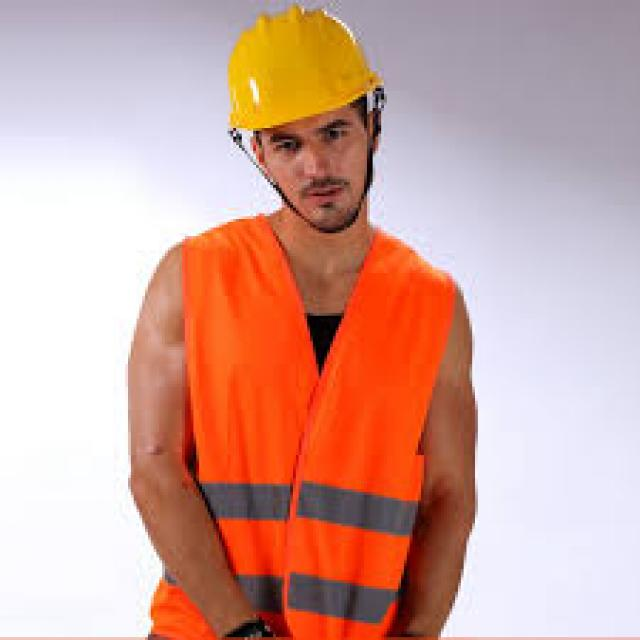Reflective-Jacket: (125, 213, 475, 640)
Safety-Helmet: (219, 3, 395, 136)
